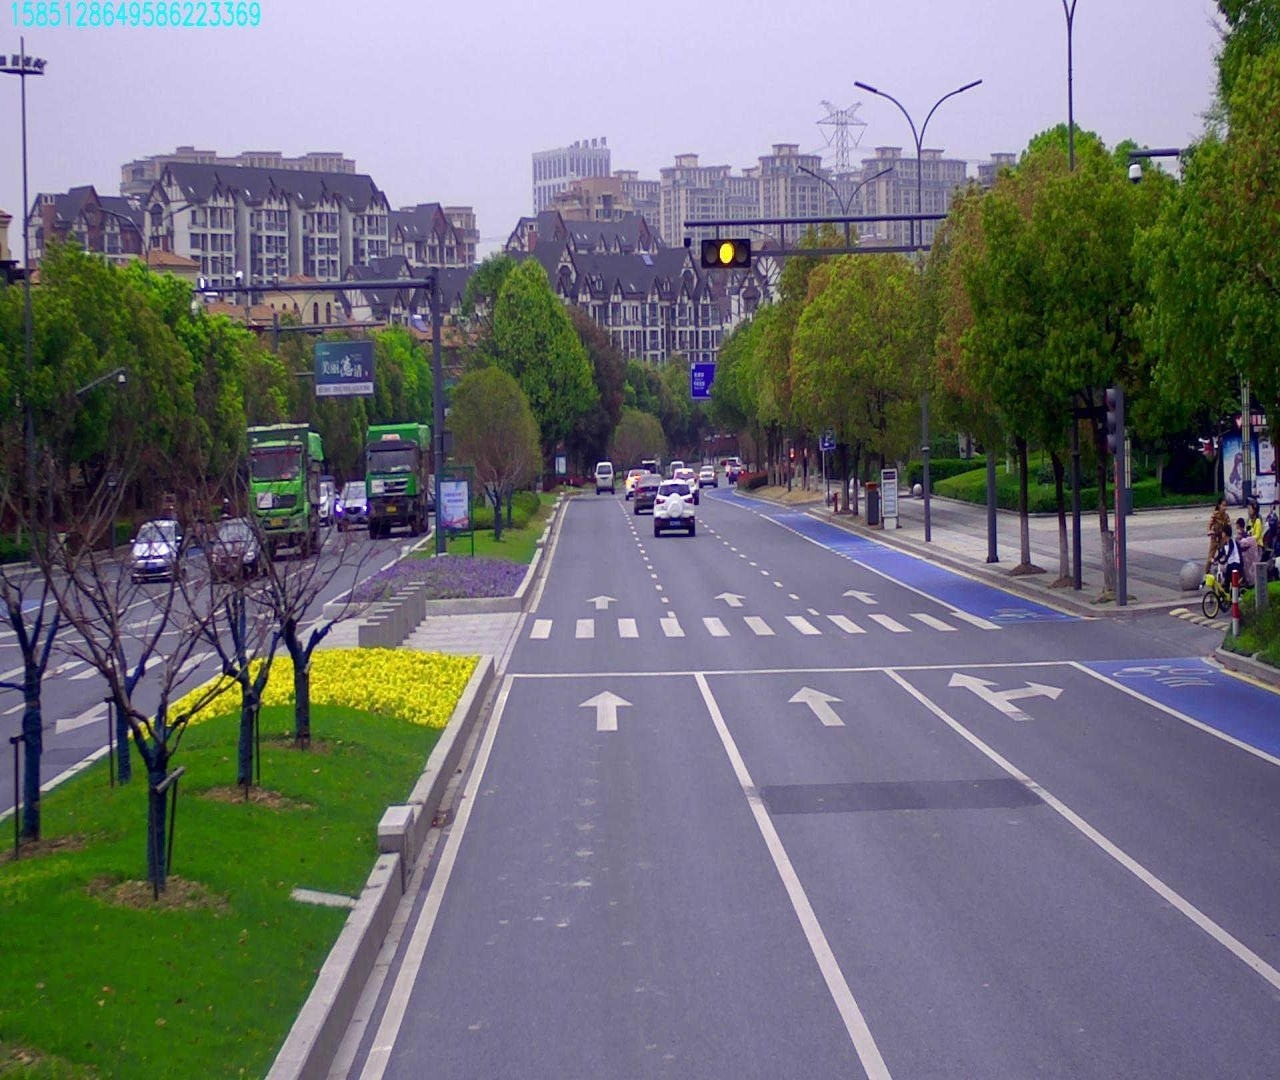yellow: (701, 240, 761, 275)
